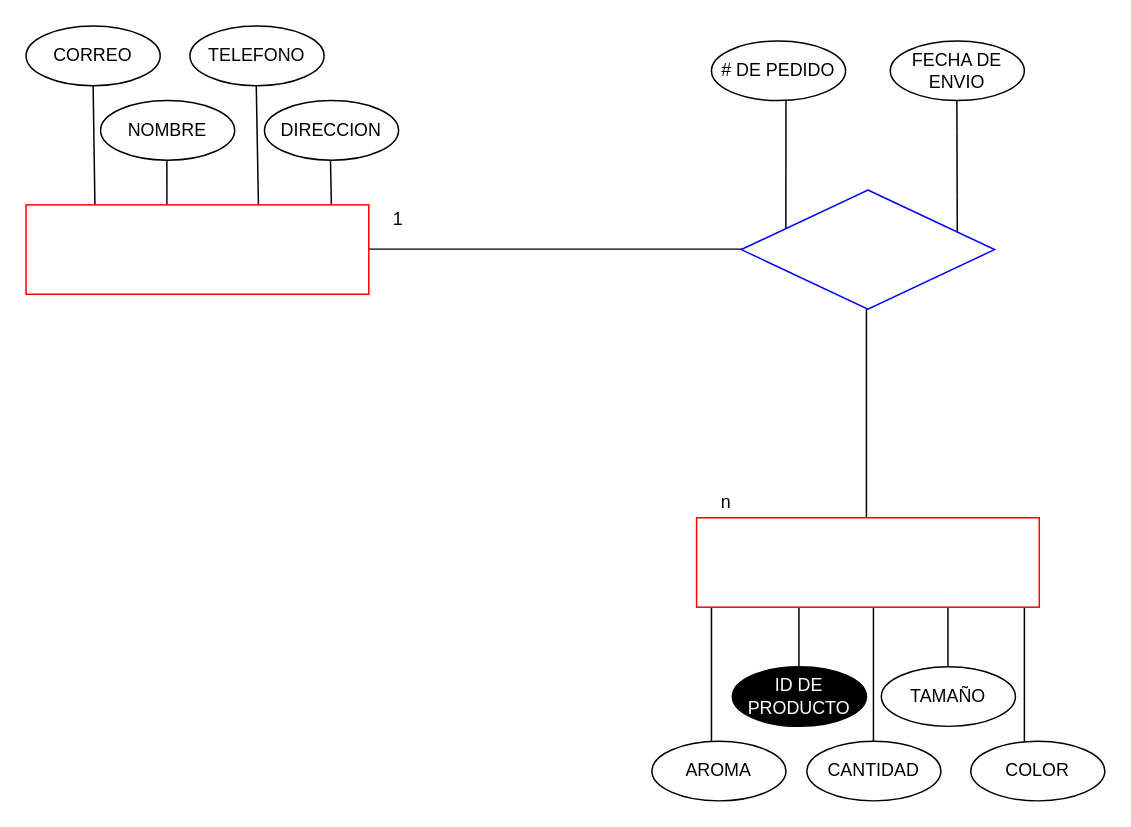
The diagram is 1131 pixels wide and 827 high, and some of its shapes have lost their labels. The centre of each missing label's shape, as x and y in pixels:
"CLIENTE" goes at (x=197, y=248).
"PEDIDO" goes at (x=867, y=248).
"PRODUCTO" goes at (x=867, y=561).
